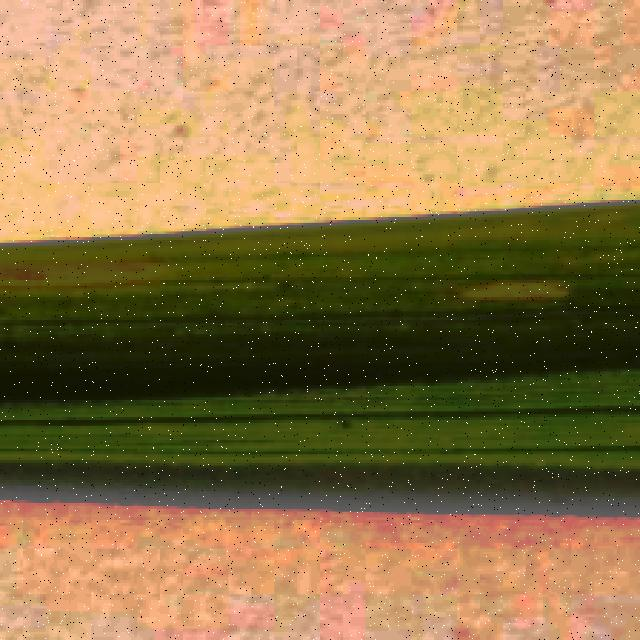unhealth: (0, 222, 639, 331)
